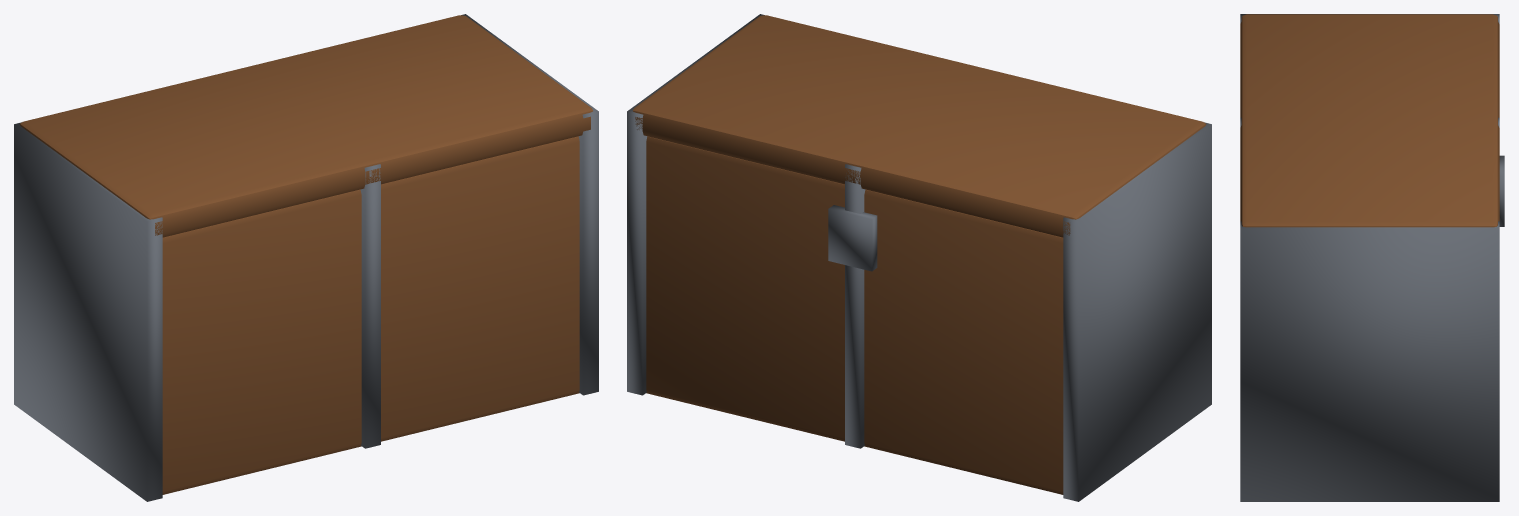
Rendered from big_chest.glb.
3 renders of one model, left to right at view 1: azimuth 30°, elevation 25°; view 2: azimuth 150°, elevation 25°; view 3: azimuth 270°, elevation 25°, orthographic. The views are drawn at different scales.
Parts seen in each view (by area): view 1: BigChest; view 2: BigChest; view 3: BigChest.
Part boxes in pixels (x1,y1,x2,y2): BigChest: (14, 14, 598, 501); BigChest: (627, 14, 1211, 501); BigChest: (1240, 14, 1504, 501).
Size of the model in its own units: 1.45 by 0.88 by 0.755.
